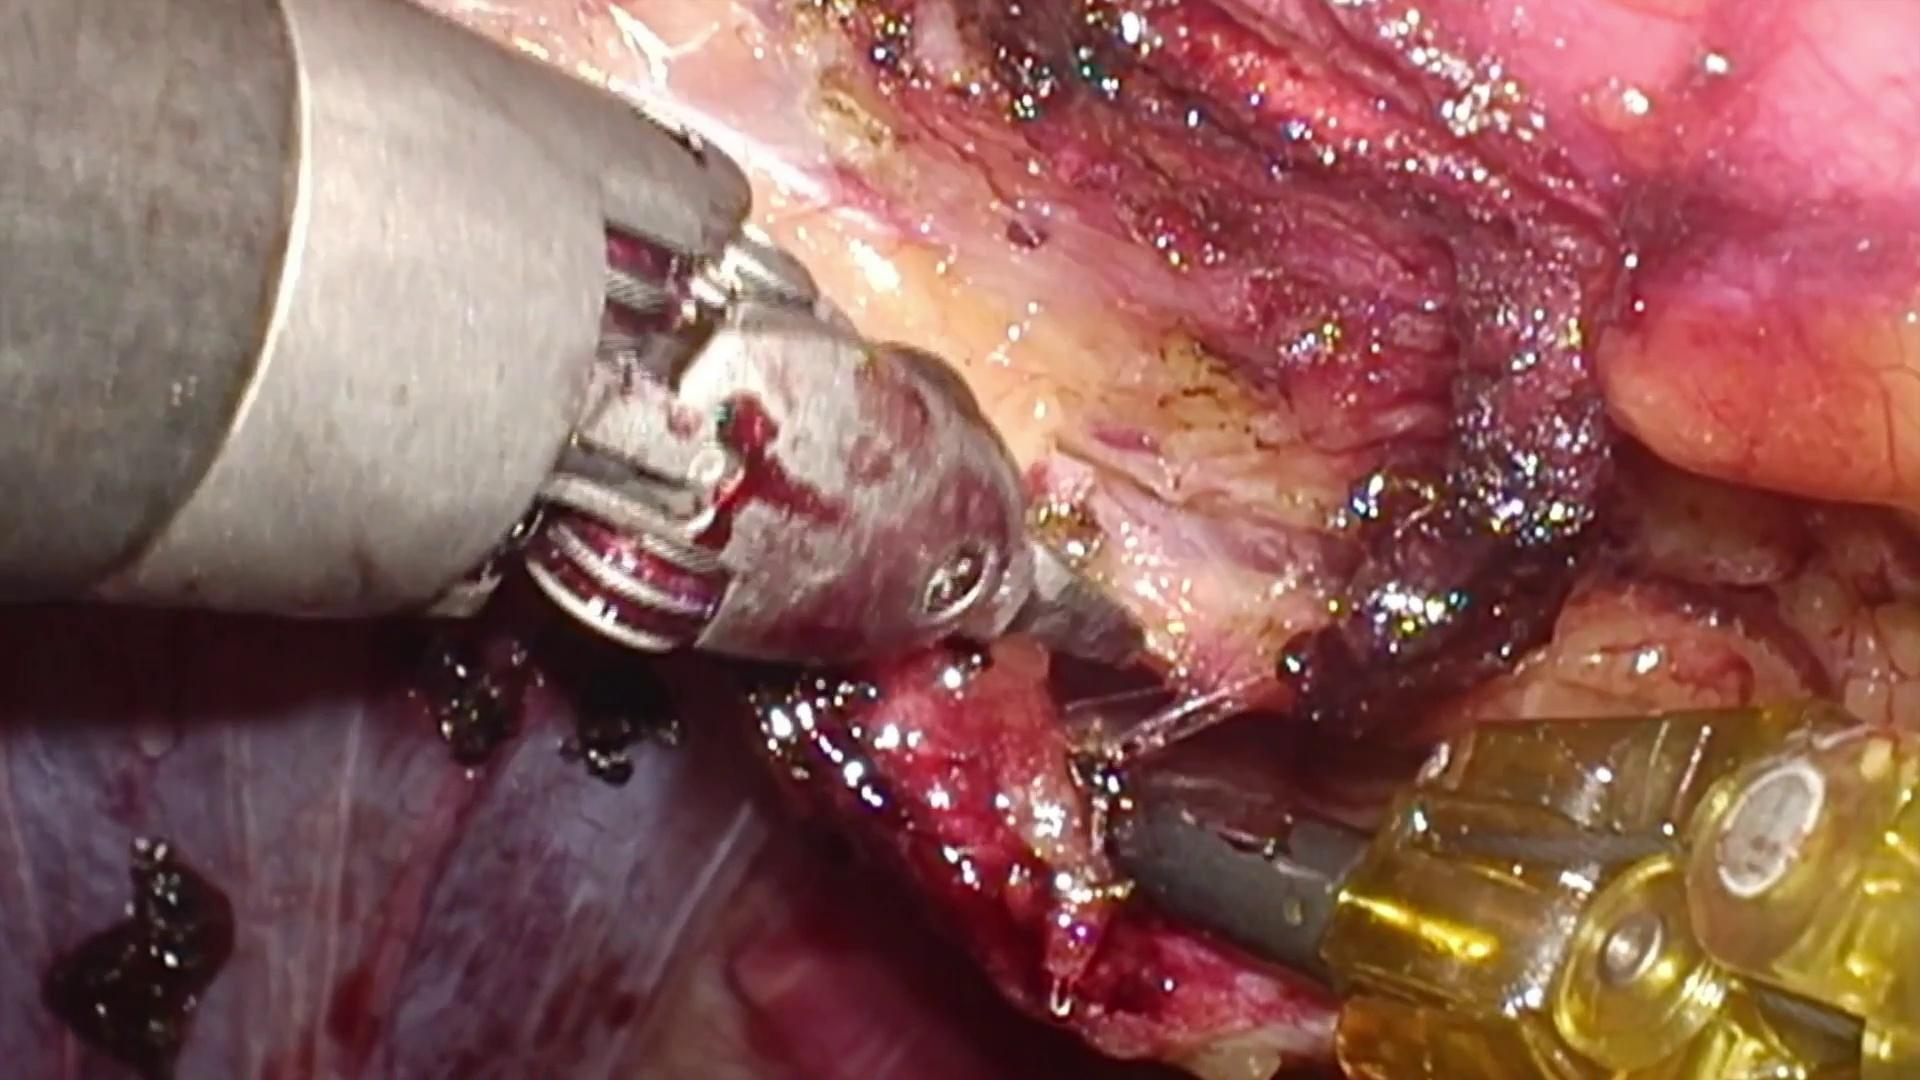Cautery_Spatula: (1062, 753, 1386, 977)
Debakey: (994, 537, 1146, 682)
